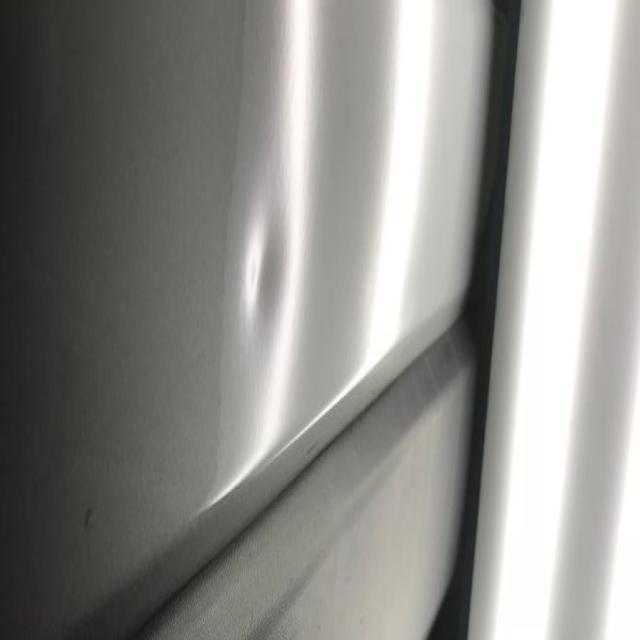dents: (225, 193, 297, 353)
